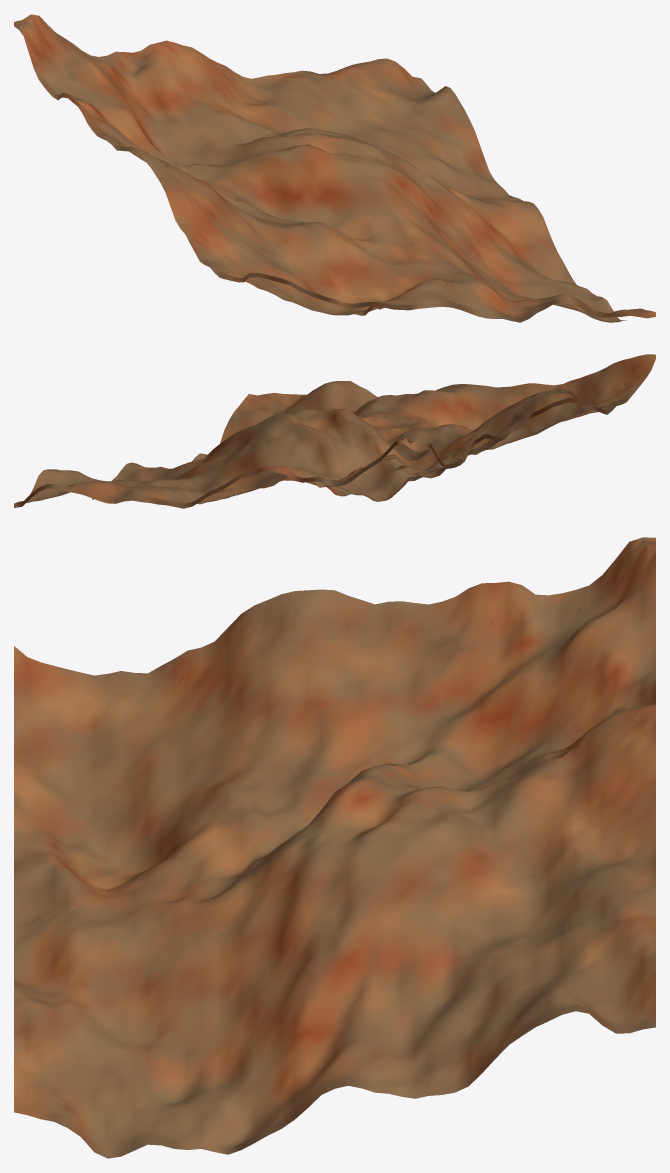
Rendered from terrain-059.glb.
The picture shows the model from 3 angles, top to bottom: view 1: azimuth 30°, elevation 25°; view 2: azimuth 150°, elevation 25°; view 3: azimuth 270°, elevation 25°; orthographic projection. The views are drawn at different scales.
Visible parts, largest first — view 1: terrain-059; view 2: terrain-059; view 3: terrain-059.
Part boxes in pixels (left/top/right/bottom): terrain-059: left=14, top=14, right=655, bottom=322; terrain-059: left=14, top=354, right=655, bottom=508; terrain-059: left=14, top=537, right=655, bottom=1158.
Size of the model in its own units: 384 by 234 by 384.
